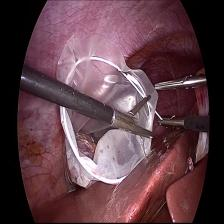Grasper: (111, 95, 158, 140), (154, 71, 205, 93), (157, 113, 186, 133)
Specimen Bag: (55, 41, 158, 188)
